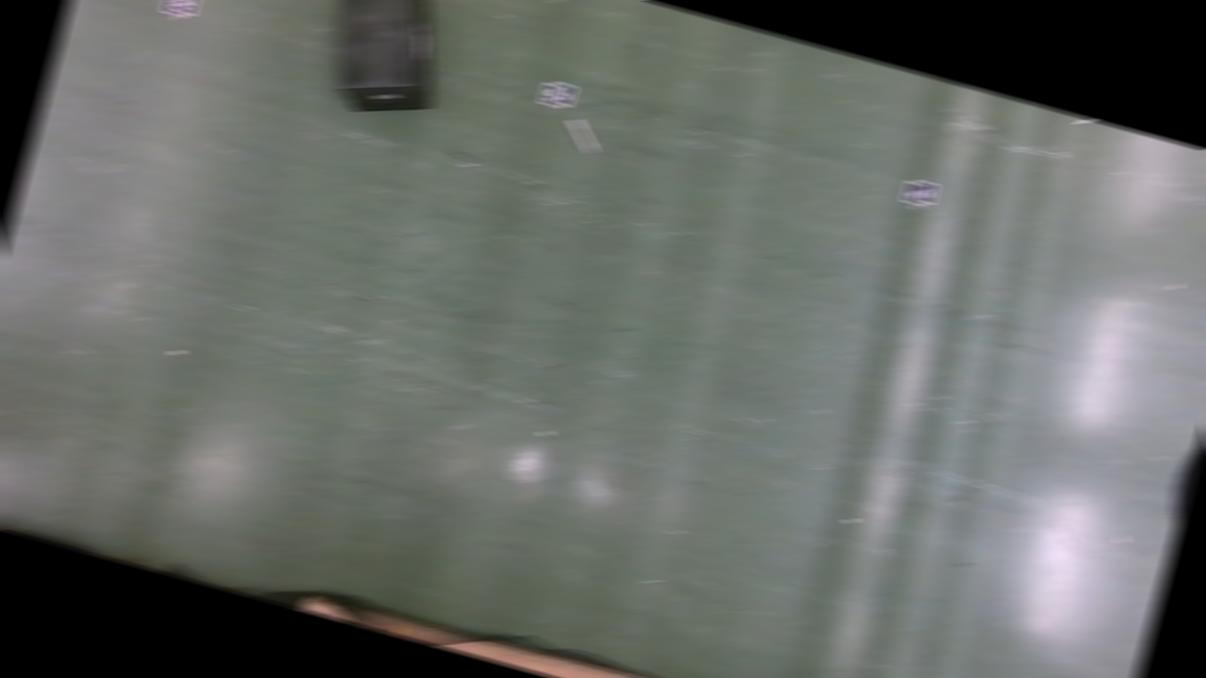probes: (563, 118, 603, 156)
rako: (303, 0, 464, 130)
